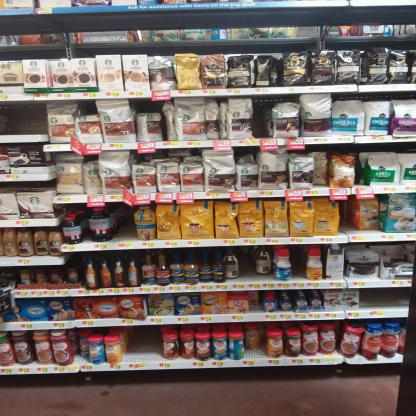Void: (5, 107, 44, 138), (130, 327, 159, 359), (114, 204, 136, 238), (254, 98, 272, 138), (362, 291, 411, 304), (243, 274, 274, 284), (134, 99, 162, 110), (249, 346, 267, 359), (80, 101, 99, 112)
